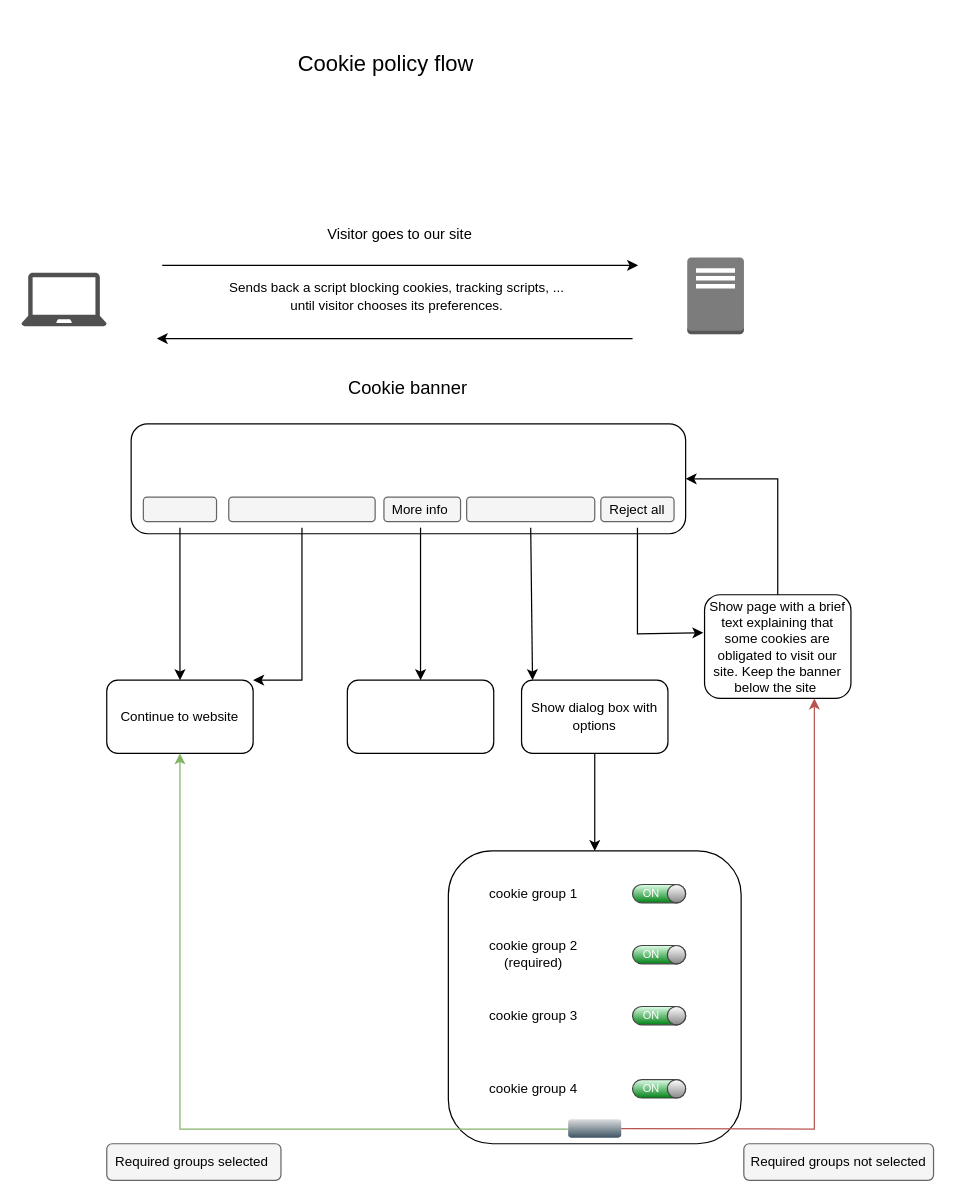
The diagram is 969 pixels wide and 1202 high, and some of its shapes have lost their labels. The shapes that lost their labels are listed below. From the top down, each one's centre as x and y in pixels, then its label:
At (x=179, y=509): "Accept all".
At (x=301, y=509): "Accept only necessary".
At (x=530, y=509): "Choose preferences".
At (x=420, y=716): "Show cookie policy".
At (x=594, y=1128): "Save".
